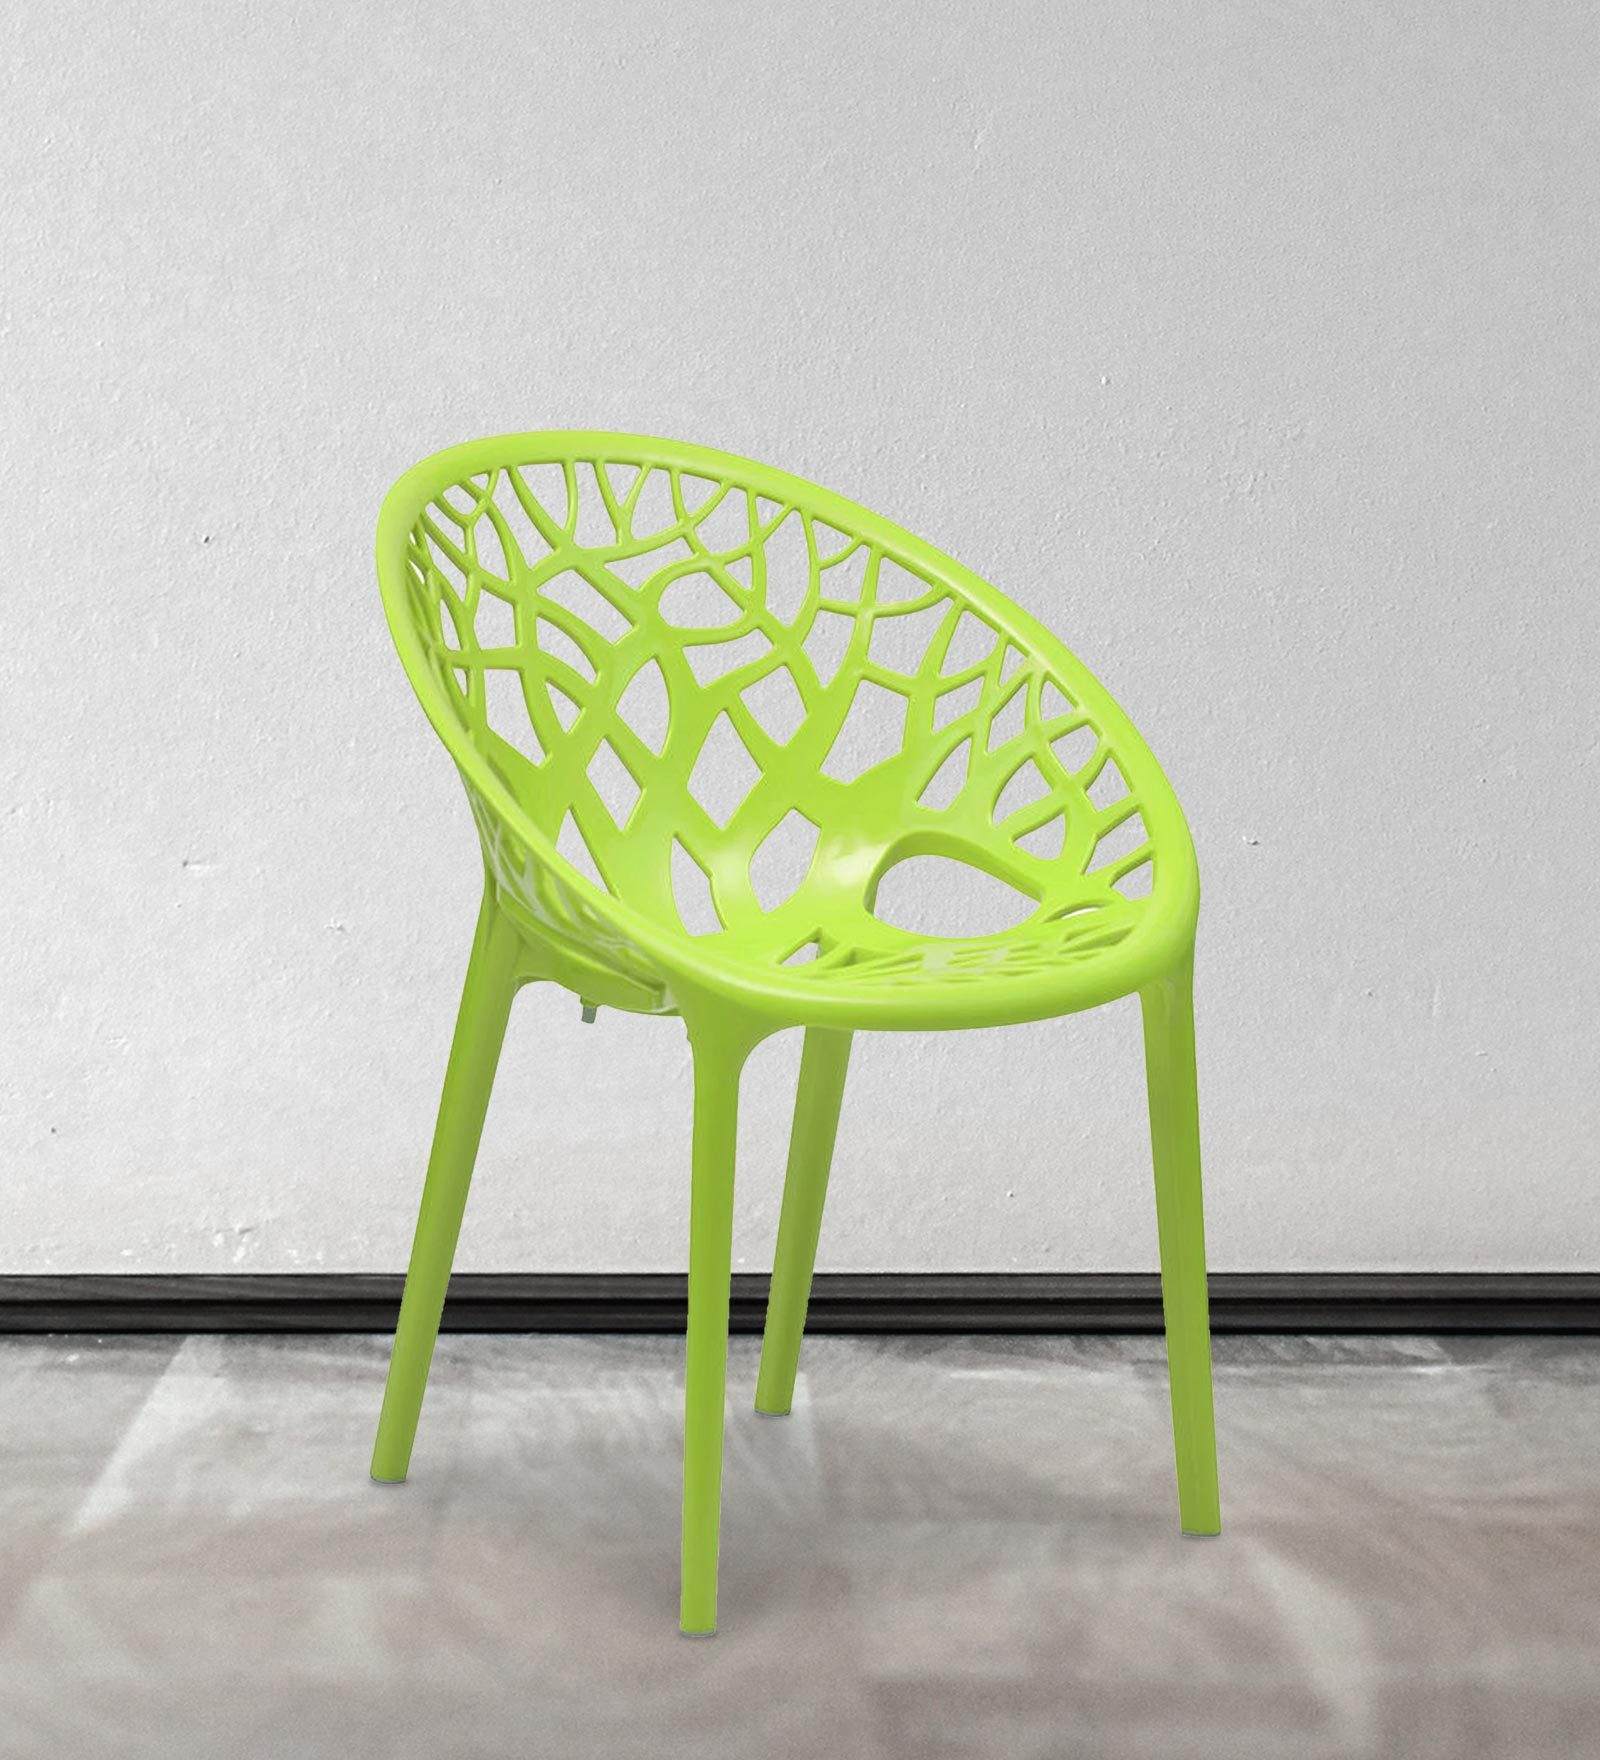Crystal Designer Chair in Lime Green Colour by Nilkamal: (303, 409, 1252, 1657)
